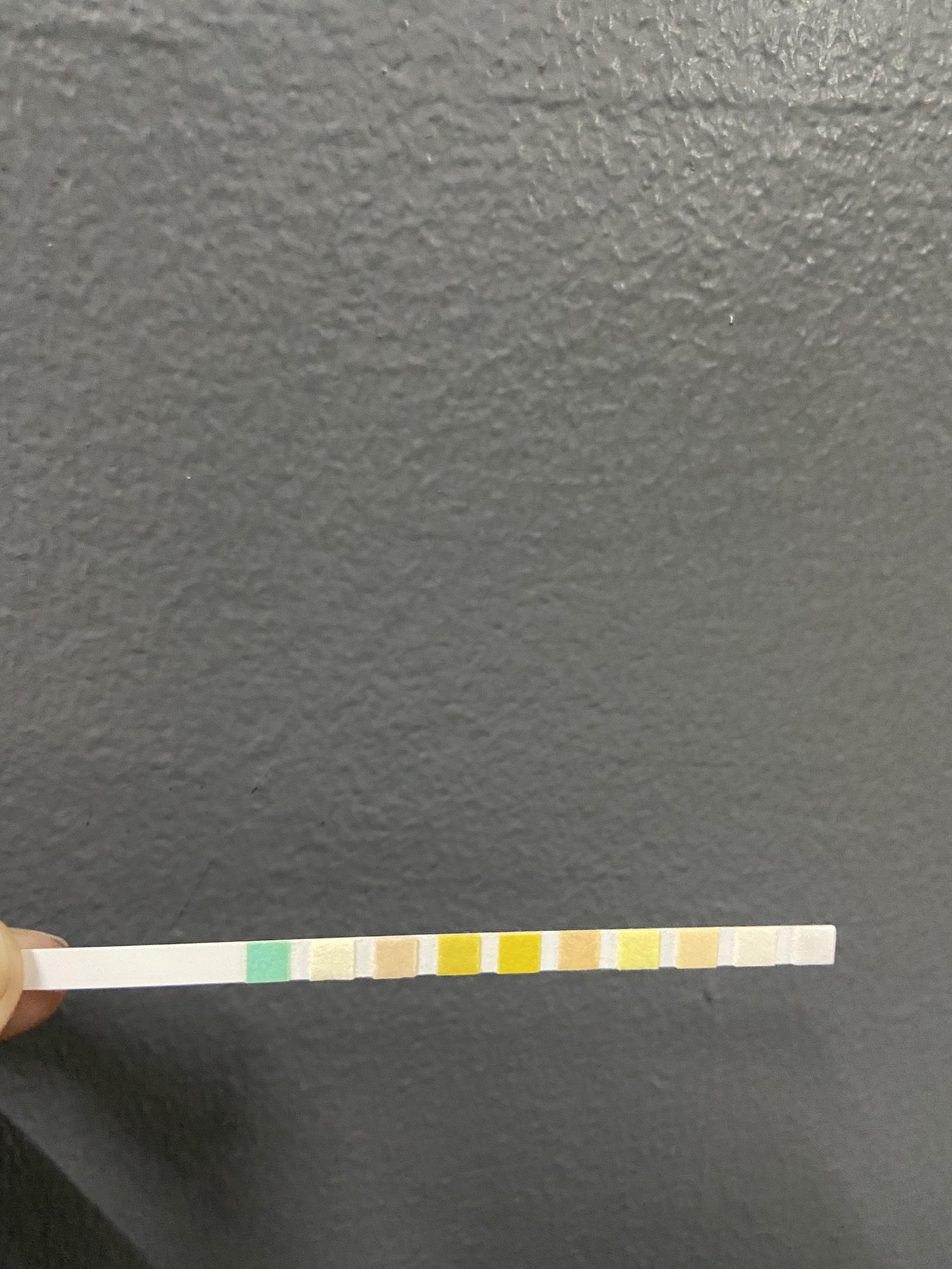Bilirubin: (312, 941, 354, 980)
Blood: (499, 934, 540, 972)
Glucose: (248, 943, 290, 981)
Ketone: (375, 939, 416, 977)
Leukocytes: (800, 927, 833, 964)
Nitrite: (736, 927, 774, 965)
Protein: (619, 929, 658, 968)
SpGravity: (439, 935, 479, 974)
Urobilinogen: (679, 930, 717, 967)
pH: (559, 932, 599, 969)
strip: (45, 926, 834, 990)
